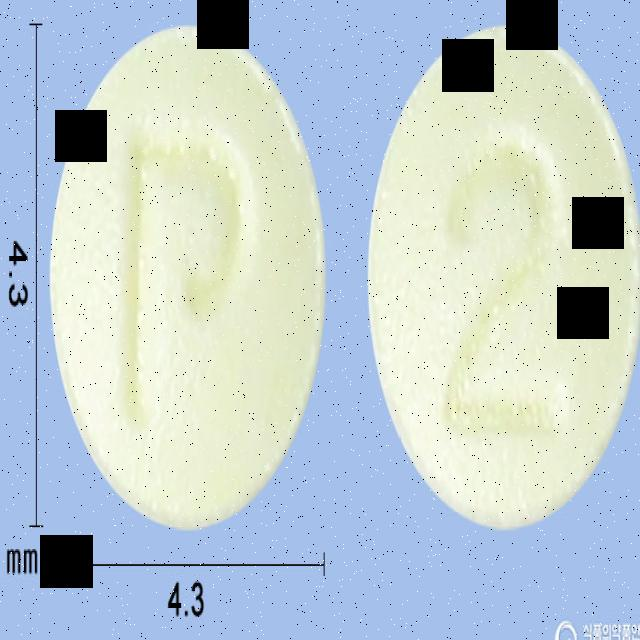Azabio - 25mg: (46, 20, 332, 538)
